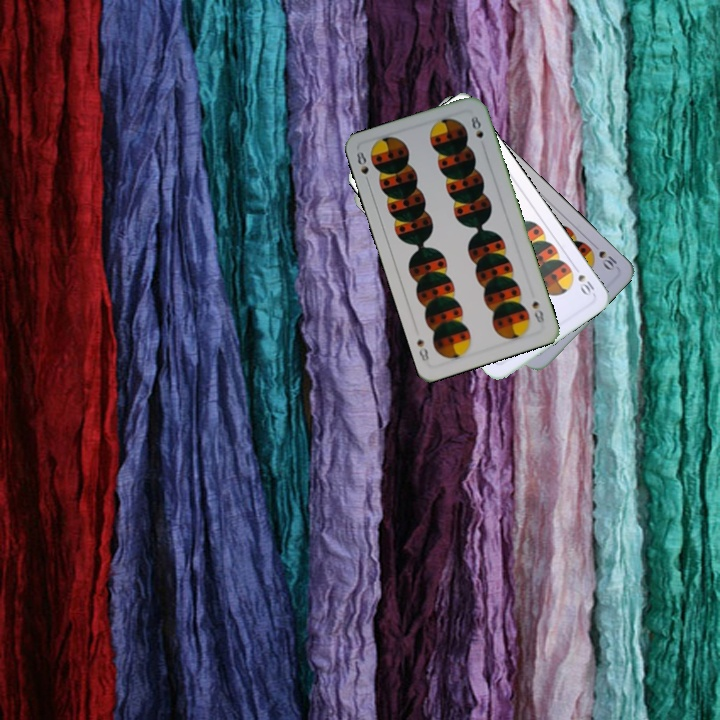S10: (588, 239, 620, 273), (569, 261, 597, 299)
S8: (352, 147, 372, 187), (528, 296, 547, 326)
